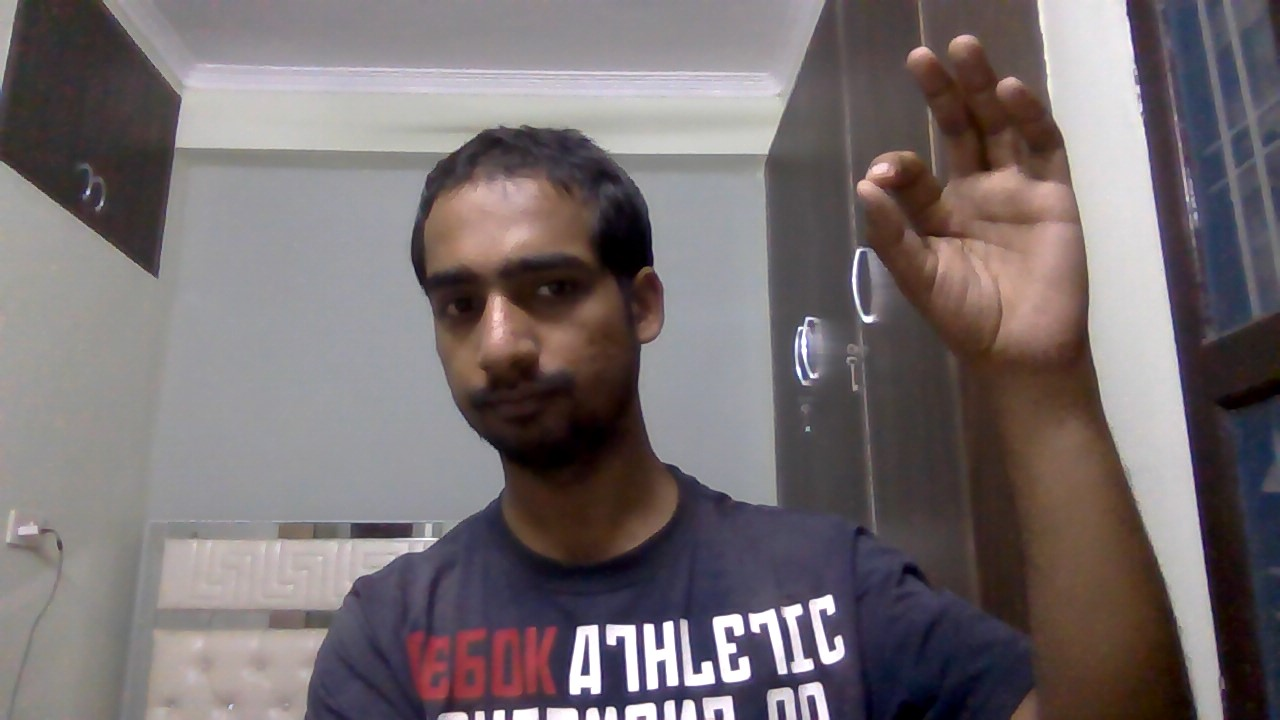Copy: (842, 29, 1144, 379)
